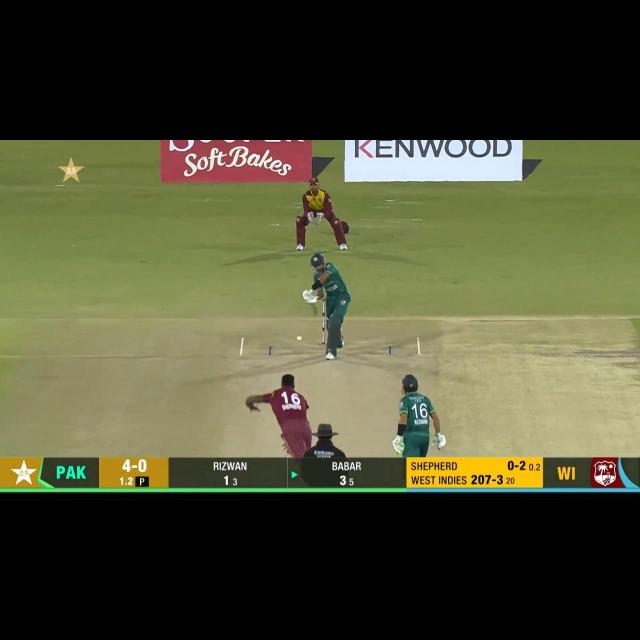bat: (308, 302, 318, 317)
toe: (309, 310, 318, 317)
